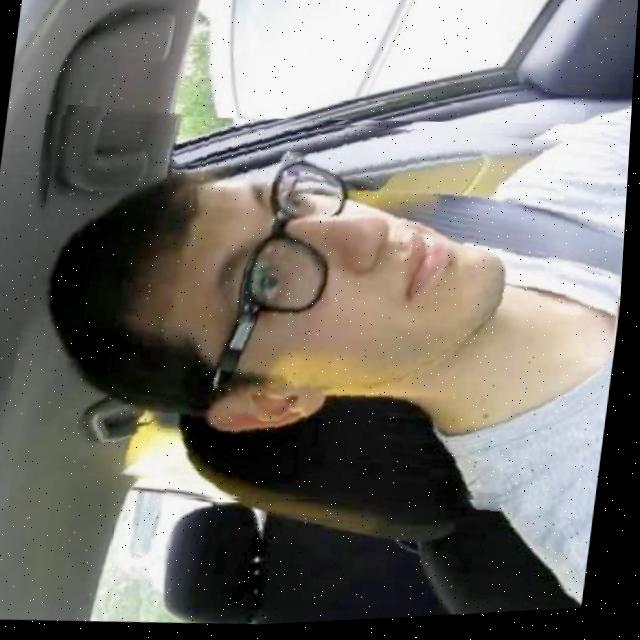seatbelt: (1, 90, 635, 539)
